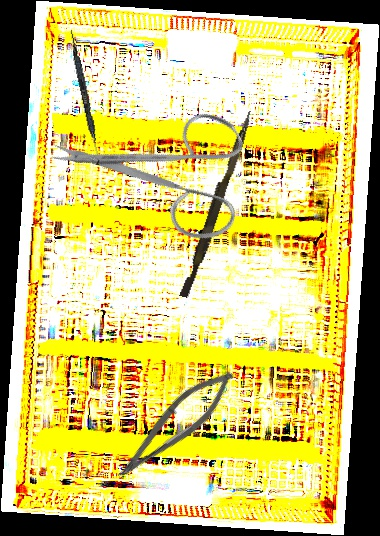Iris Scissors: (45, 62, 278, 290)
Micro Scissor: (109, 357, 243, 494)
Pusher: (179, 108, 254, 300)
Spatula Surgical: (65, 28, 105, 166)
